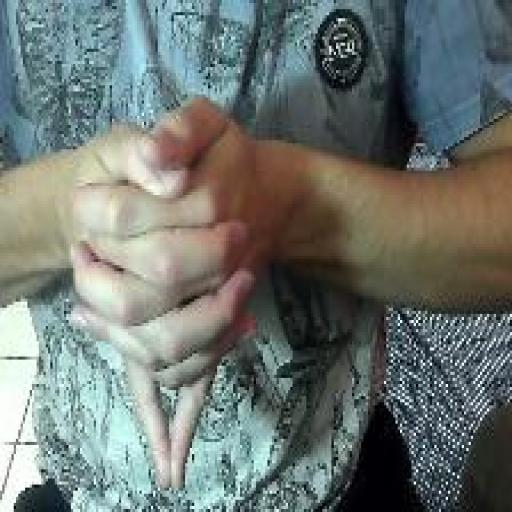Tatsu -dragon-: (67, 91, 262, 500)
